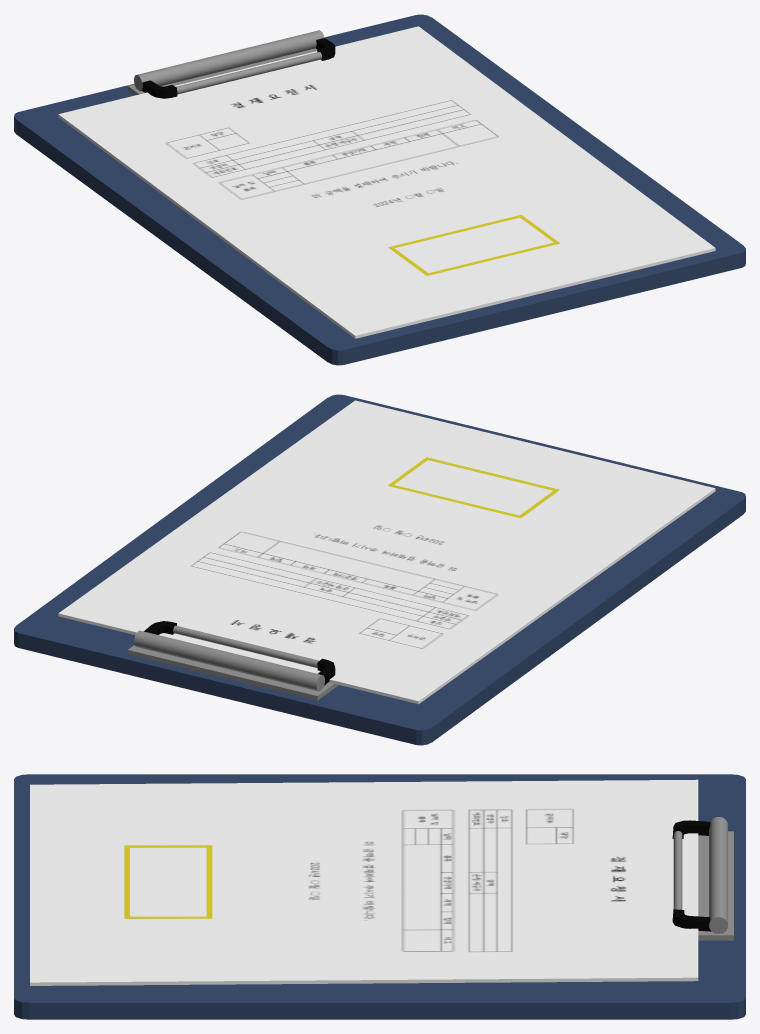
File: 0508document_with_light.fbx
3 renders of one model, top to bottom at view 1: azimuth 30°, elevation 25°; view 2: azimuth 150°, elevation 25°; view 3: azimuth 270°, elevation 25°, orthographic. The views are drawn at different scales.
Visible parts, largest first — view 1: paper, Cube, Cylinder.001, Cylinder, Plane, Cube.001; view 2: paper, Cube, Cylinder.001, Cube.001, Cylinder, Plane; view 3: paper, Cube, Cylinder.001, Cube.001, Plane, Cylinder, Cube.003, Cube.002.
Boxes of the visible parts, x1,y1,x2,y2 form: paper: (58, 26, 715, 338); Cube: (14, 14, 745, 365); Cylinder.001: (134, 30, 324, 91); Cylinder: (176, 52, 321, 94); Plane: (388, 215, 560, 275); Cube.001: (128, 48, 317, 95); paper: (58, 400, 715, 704); Cube: (14, 394, 745, 745); Cylinder.001: (134, 630, 324, 691); Cube.001: (128, 645, 338, 700); Cylinder: (173, 625, 319, 667); Plane: (387, 457, 559, 518); paper: (30, 779, 698, 985); Cube: (14, 774, 745, 1019); Cylinder.001: (709, 817, 727, 933); Cube.001: (698, 831, 733, 940); Plane: (124, 845, 212, 918); Cylinder: (673, 831, 682, 909); Cube.003: (672, 909, 711, 931); Cube.002: (672, 820, 710, 838).
Size of the model in its own units: 15.08 by 1.18 by 20.41.
